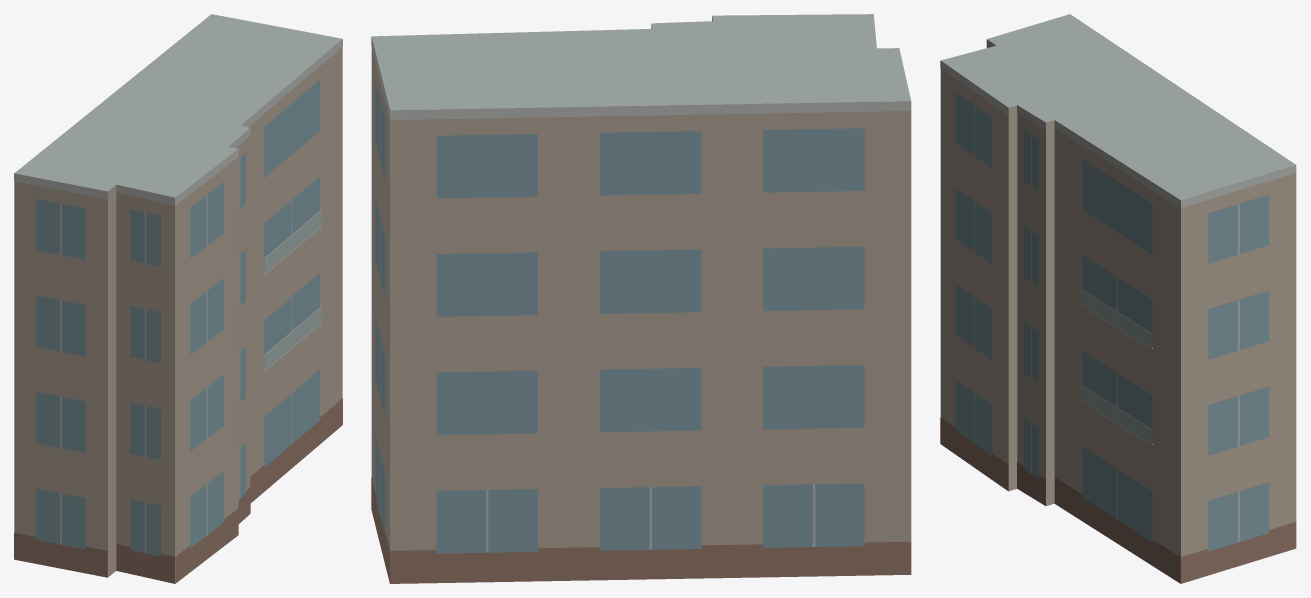
File: survey-upis-32971230.glb
The picture shows the model from 3 angles, left to right: view 1: azimuth 30°, elevation 25°; view 2: azimuth 150°, elevation 25°; view 3: azimuth 270°, elevation 25°; orthographic projection. The views are drawn at different scales.
Visible parts, largest first — view 1: survey-upis-32971230.tmp; view 2: survey-upis-32971230.tmp; view 3: survey-upis-32971230.tmp.
Boxes of the visible parts, <box> form: survey-upis-32971230.tmp: <box>14,14,342,583</box>; survey-upis-32971230.tmp: <box>371,14,911,583</box>; survey-upis-32971230.tmp: <box>940,14,1296,583</box>.
Bounding box in the file's own units: 12.3 × 11.8 × 9.93.
